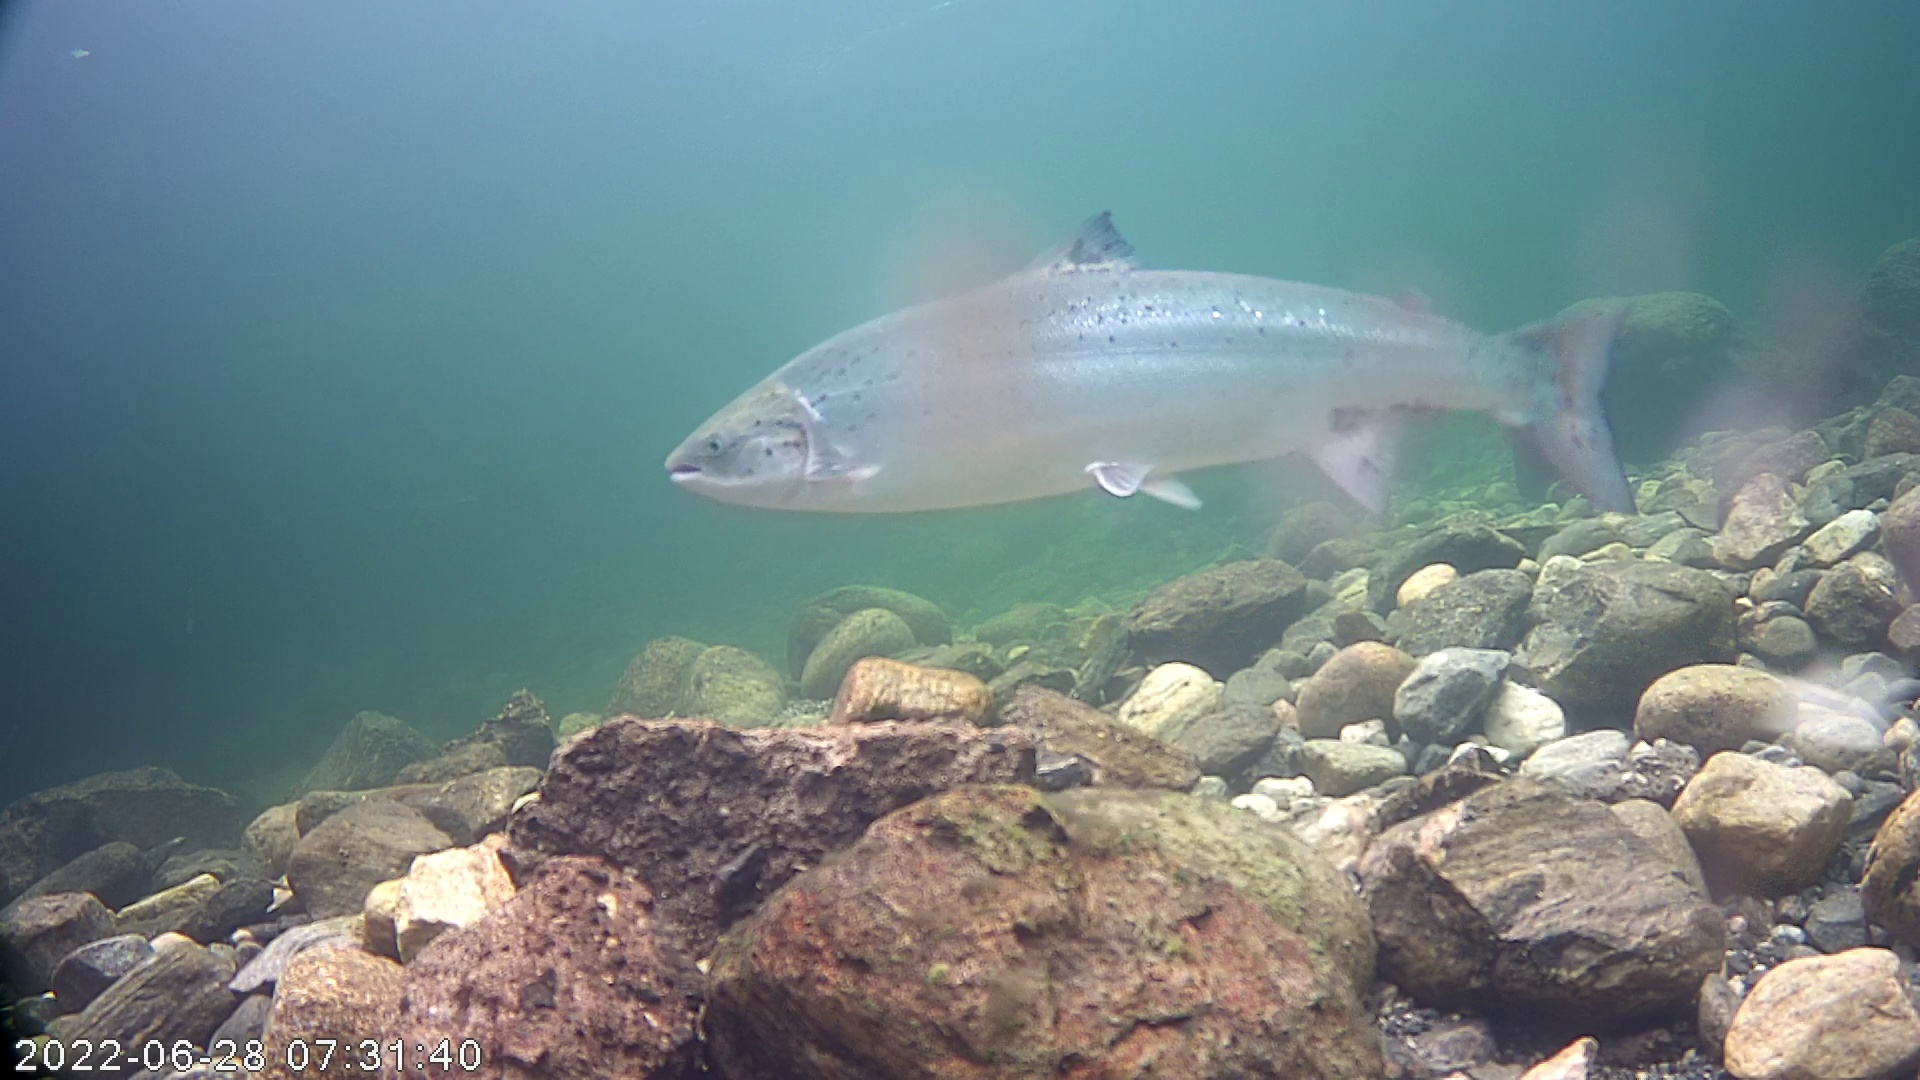salmon: (654, 135, 1691, 564)
